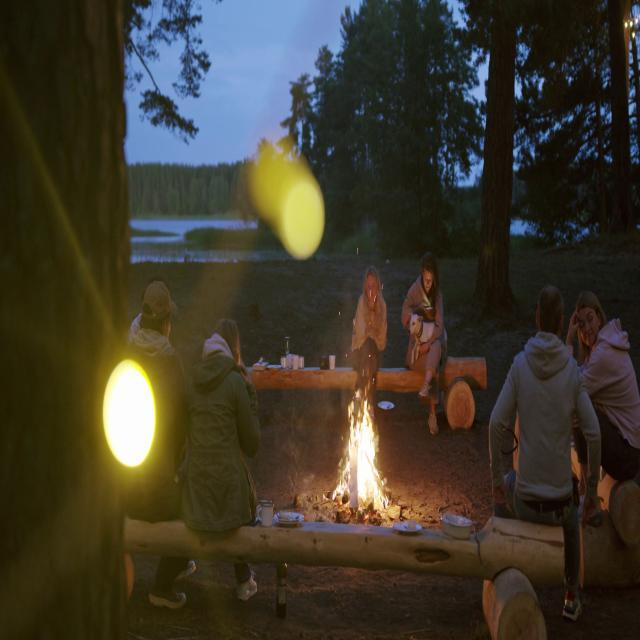Fire: (332, 386, 394, 526)
